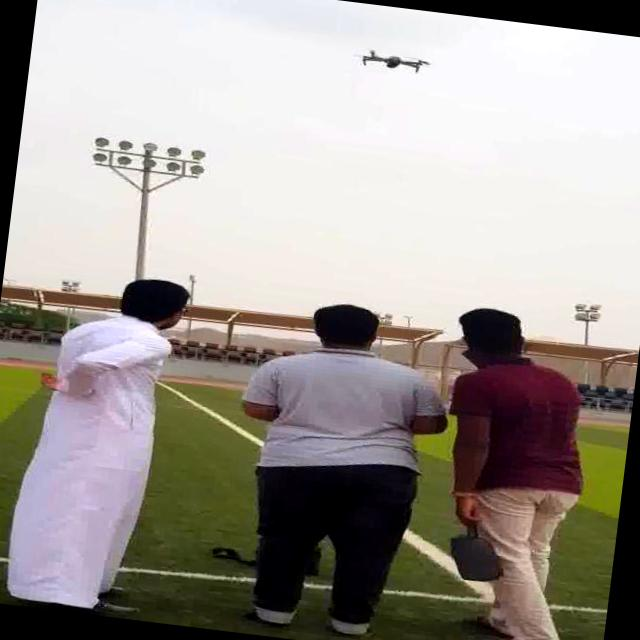drone: (352, 42, 436, 76)
